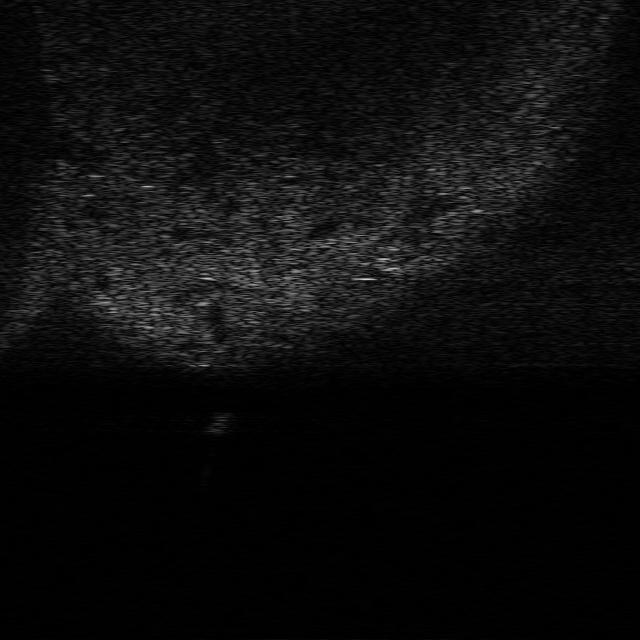cylinder: (202, 411, 234, 434)
